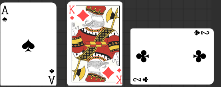2C: (132, 75, 149, 83)
AC: (46, 67, 55, 84), (192, 29, 210, 36)
